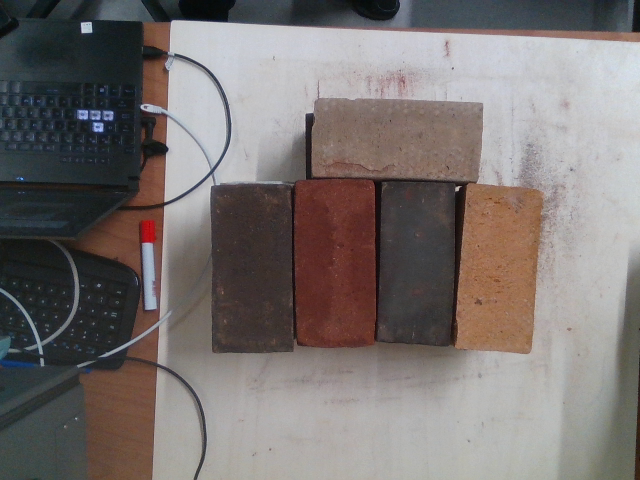brick: (454, 185, 545, 353), (211, 187, 292, 352), (314, 100, 482, 178), (297, 182, 375, 343), (379, 187, 453, 345)
